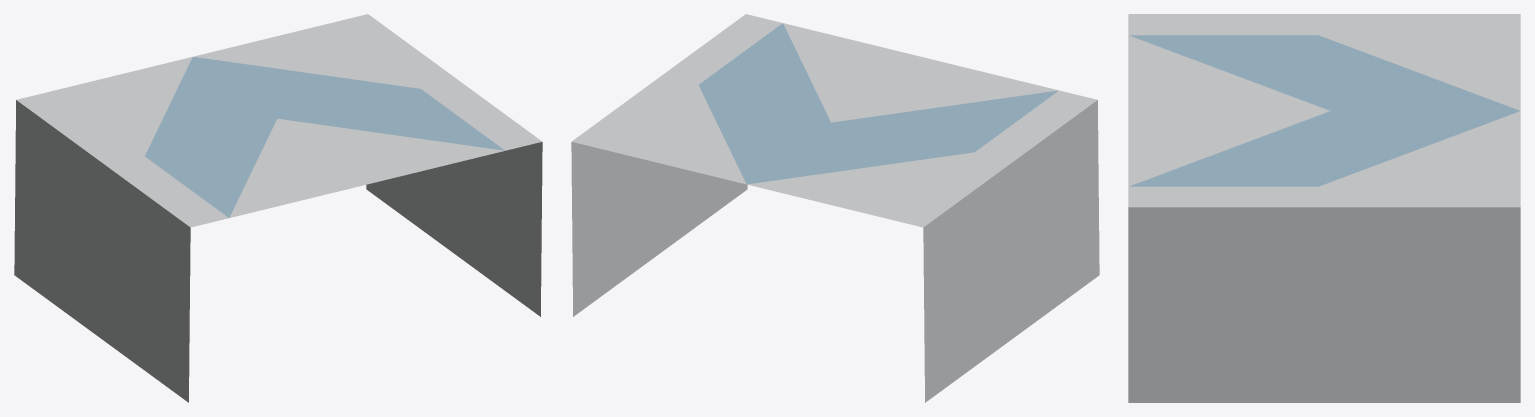
The model's file is road1.fbx.
3 renders of one model, left to right at view 1: azimuth 30°, elevation 25°; view 2: azimuth 150°, elevation 25°; view 3: azimuth 270°, elevation 25°, orthographic. The views are drawn at different scales.
Parts seen in each view (by area): view 1: road_01; view 2: road_01; view 3: road_01.
Boxes of the visible parts, x1,y1,x2,y2 form: road_01: (14,14,542,402); road_01: (571,14,1099,402); road_01: (1128,14,1520,402).
Size of the model in its own units: 1264 by 597 by 1080.
